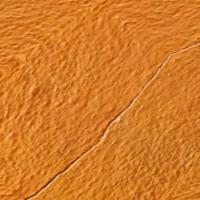crack: (1, 89, 150, 199)
